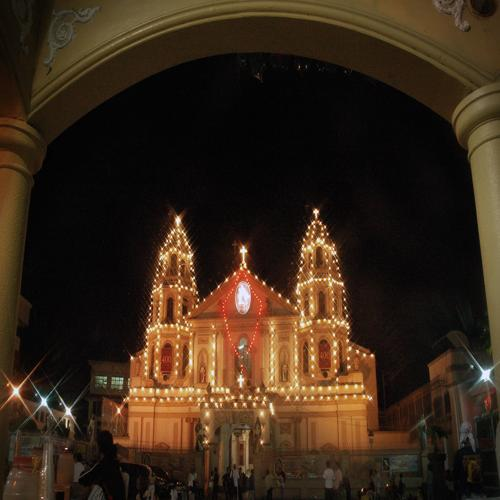Quiapo Church: (100, 205, 392, 468)
